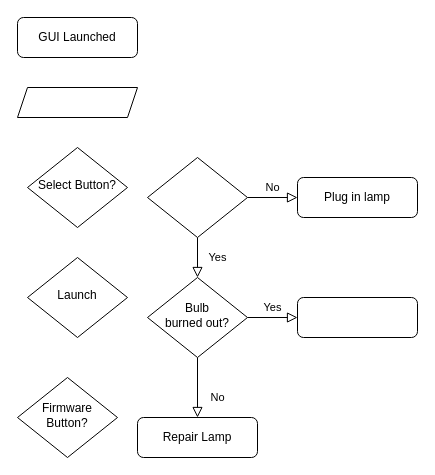
The diagram is 435 pixels wide and 475 high, and some of its shapes have lost their labels. The shapes that lost their labels are listed below. From the top down, each one's centre as x and y in pixels, then its label:
At (x=77, y=102): "Button Pressed".
At (x=197, y=197): "Lamp plugged in?".
At (x=357, y=317): "Replace Bulb".
